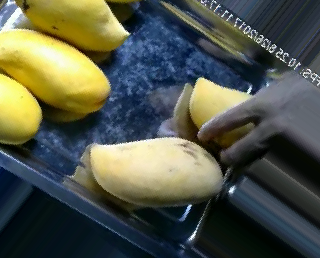Mango: (83, 137, 224, 208), (0, 27, 112, 115), (13, 0, 130, 52), (0, 73, 47, 147)
